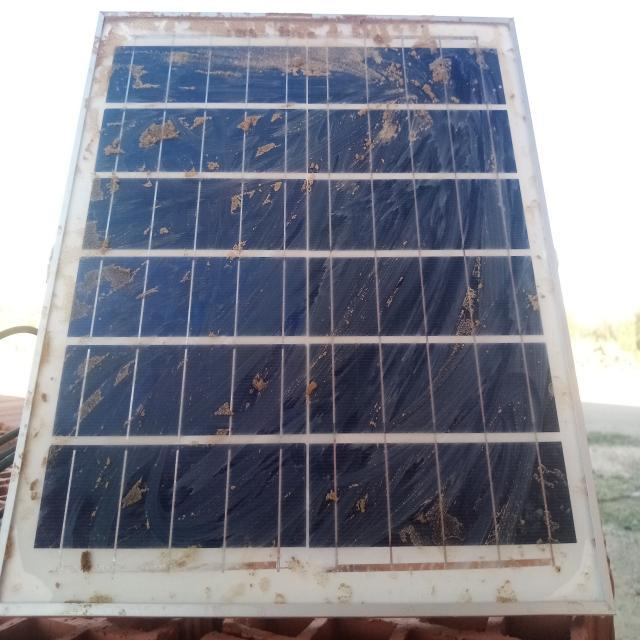faulty: (3, 16, 612, 615)
